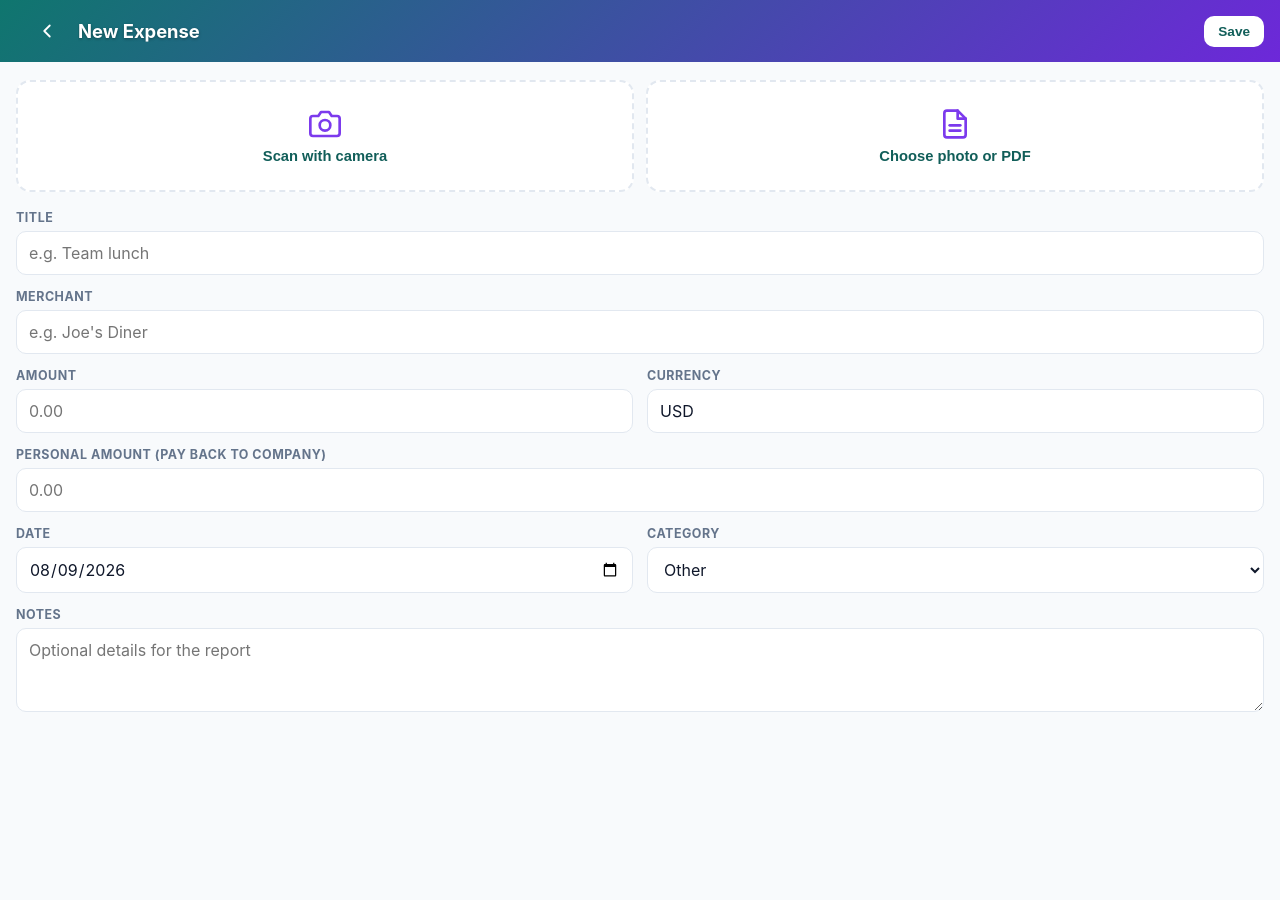
ExpenseEditor submit-time validation › rejects a missing amount with an alert, and marks the amount field
Type "Taxi" into the field with placeholder "e.g. Team lunch" at {"x": 640, "y": 253}, box [16,231,1264,275]
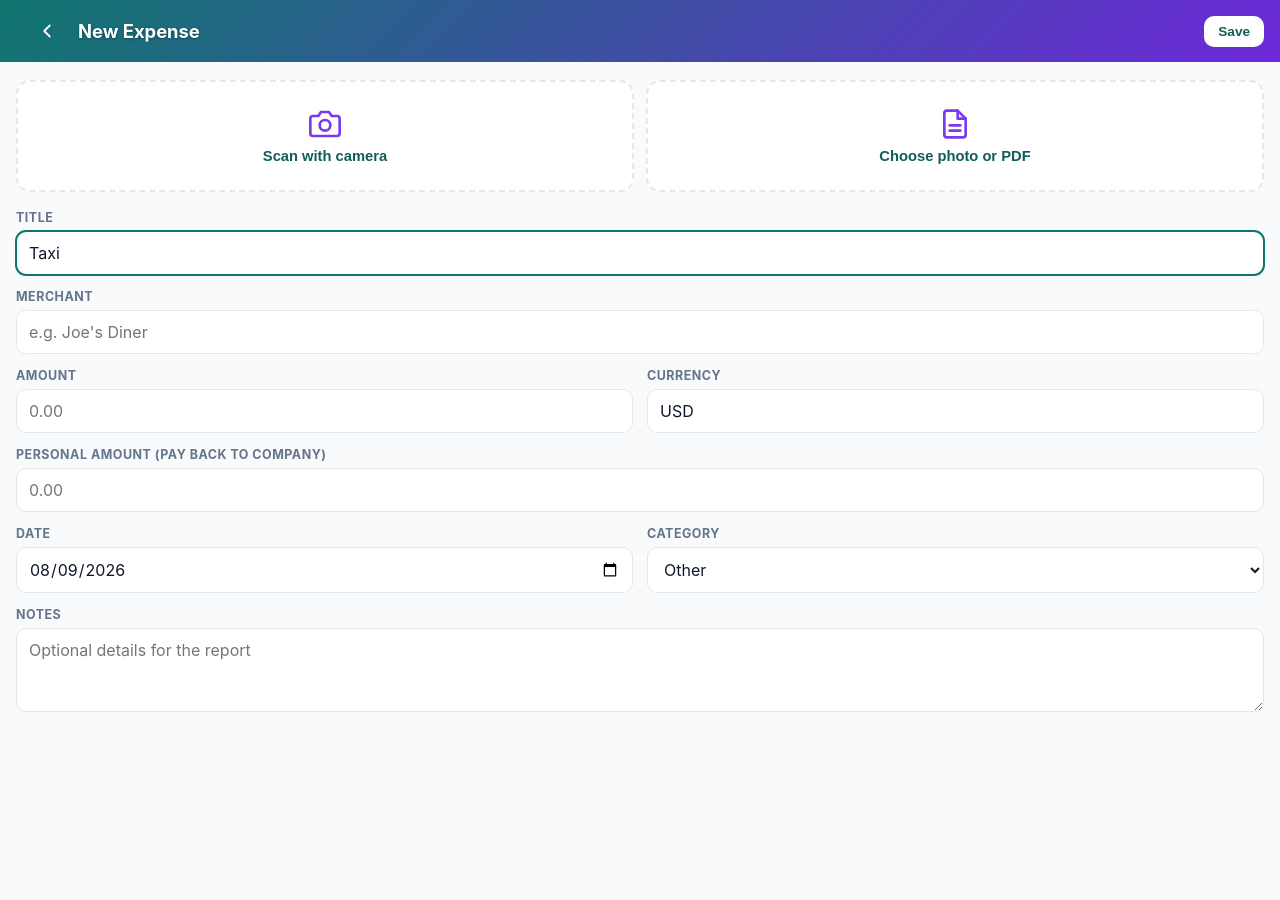
Click the button "Save" at {"x": 1234, "y": 31}, box [1204,16,1264,46]
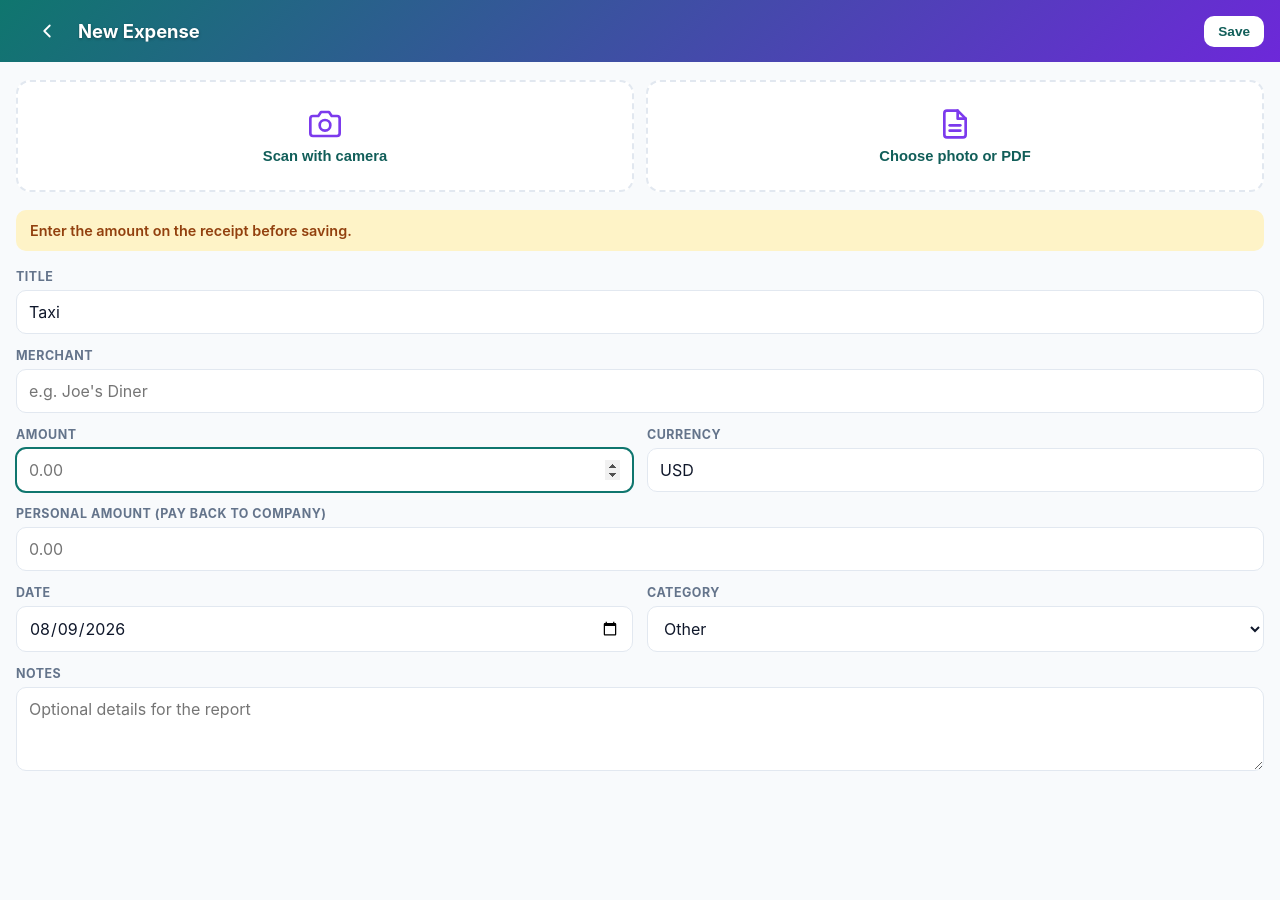
Check: the message reads "Enter the amount on the receipt before saving.", box [30,222,352,239]
